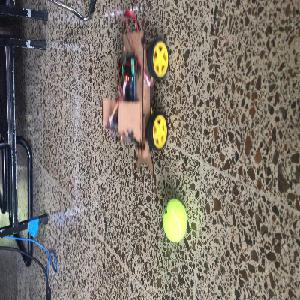Ball: (162, 200, 187, 242)
Robot: (103, 30, 167, 170)
